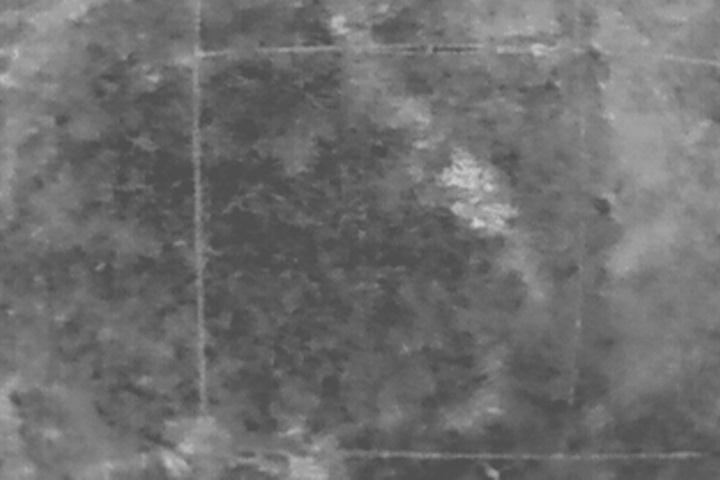landmine: (445, 162, 483, 187)
